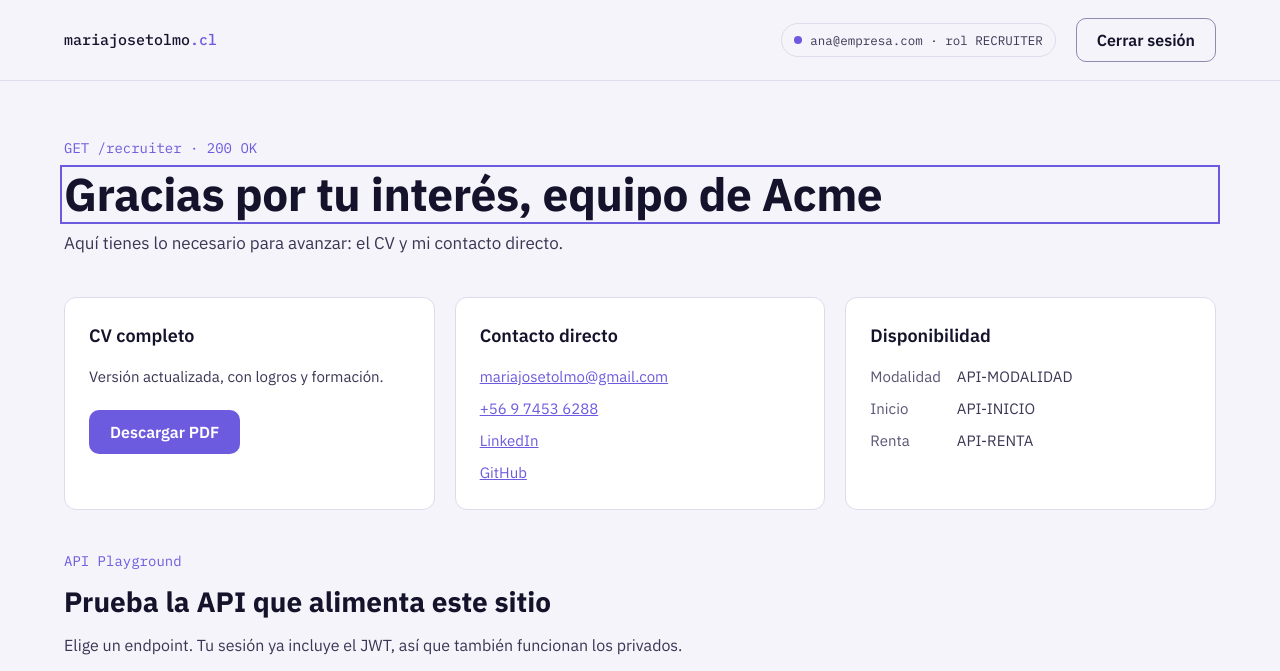
it: RecruiterZone logout › shows the wait copy with role="alert" on a rate limit, and stays
Check: the heading "Gracias por tu interés, equipo de Acme" is shown, box [64,164,882,224]
What coordinates should you click on to do the following:
click the button "Cerrar sesión"
I would click on:
 (1146, 40)
Its box is [1076,18,1216,62].
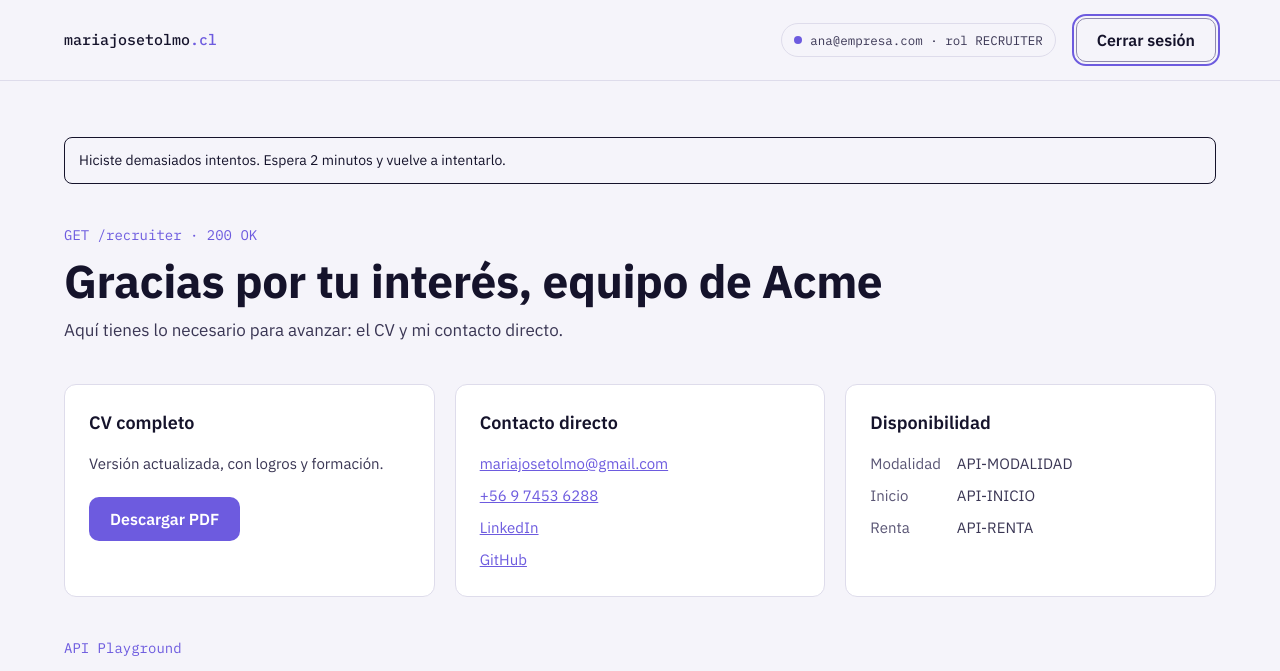
Check: the message shows "Espera 2 minutos", box [79,151,506,169]
